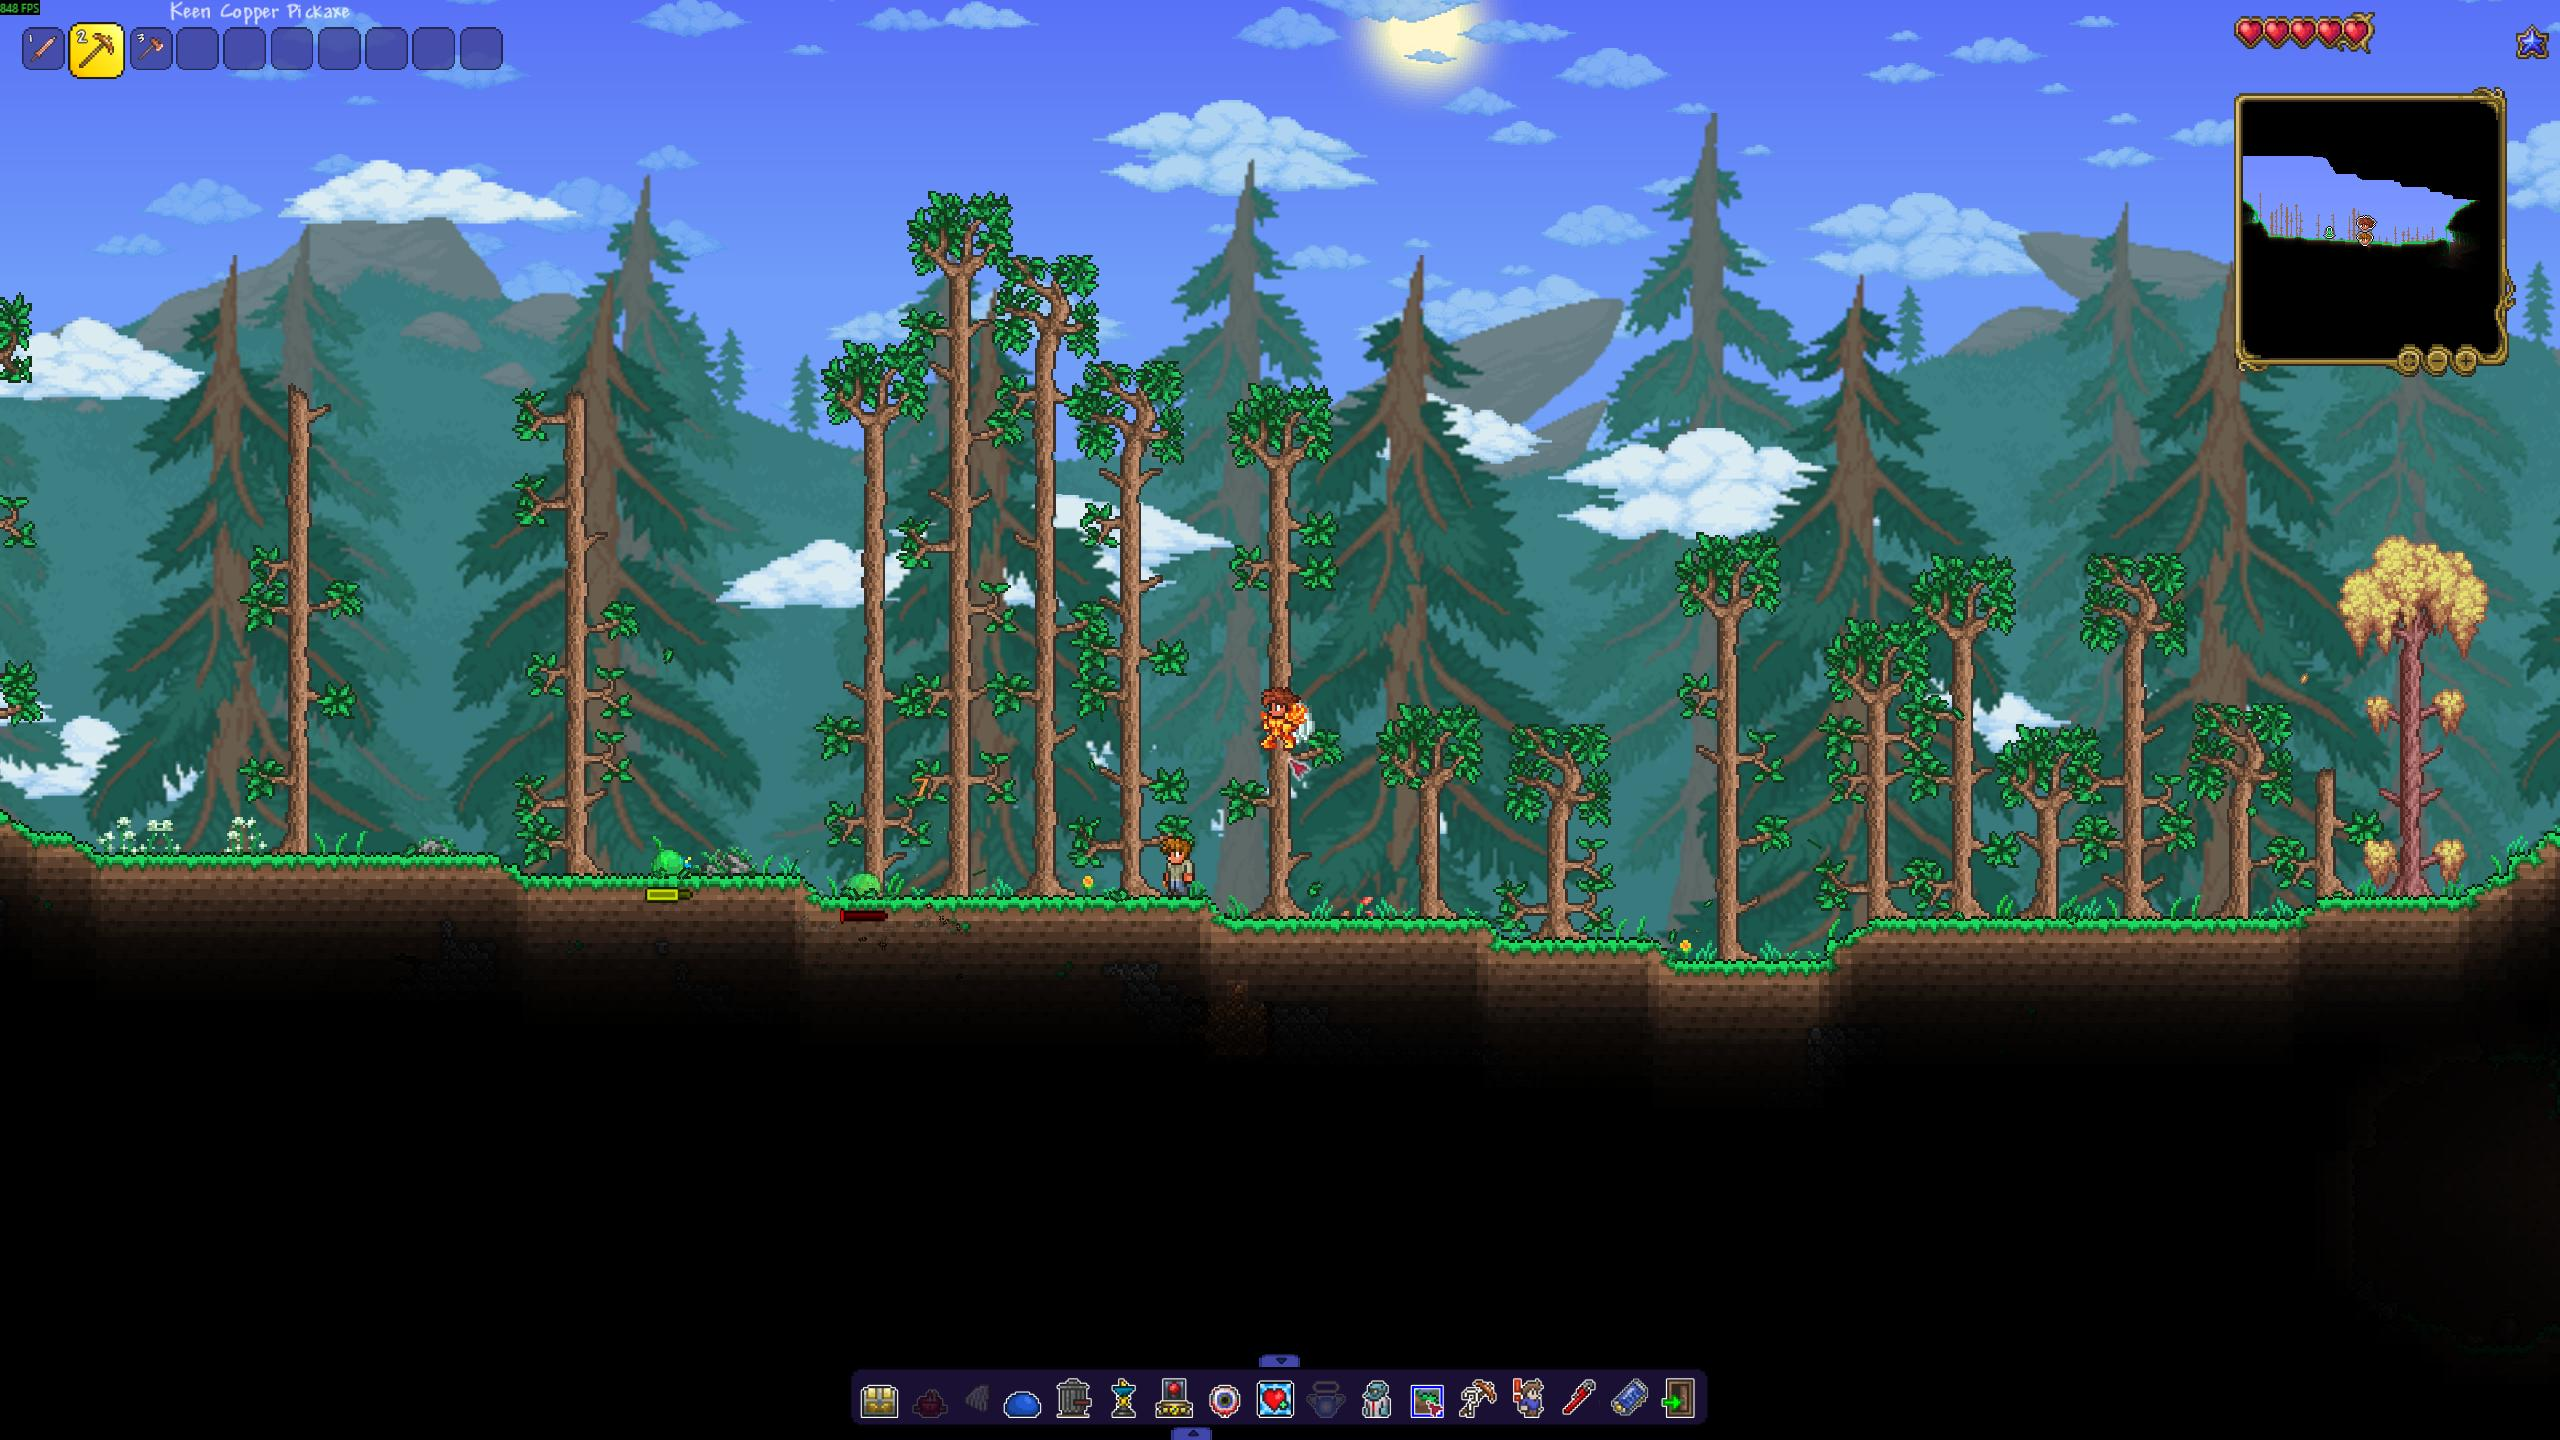Green Slime: (840, 869, 886, 902), (649, 847, 689, 879)
